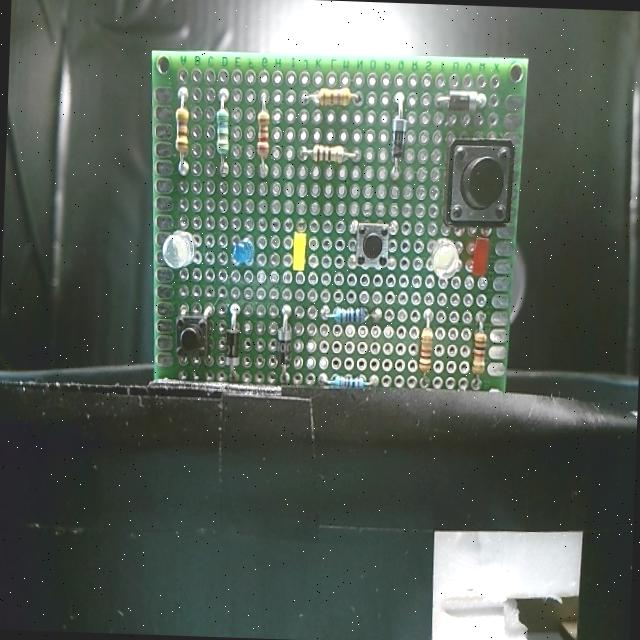diode: (272, 320, 291, 370), (222, 324, 240, 371), (389, 112, 405, 164), (445, 88, 480, 110)
led: (160, 229, 198, 272), (428, 238, 459, 282), (468, 237, 492, 282), (230, 236, 256, 267), (290, 230, 308, 274)
resistor: (254, 108, 272, 164), (306, 142, 348, 165), (212, 109, 230, 160), (172, 108, 190, 159), (468, 328, 487, 375), (330, 304, 370, 326), (329, 372, 368, 393), (316, 87, 352, 109), (418, 329, 434, 375)
switch: (446, 137, 514, 229), (171, 311, 209, 365), (353, 222, 392, 268)
